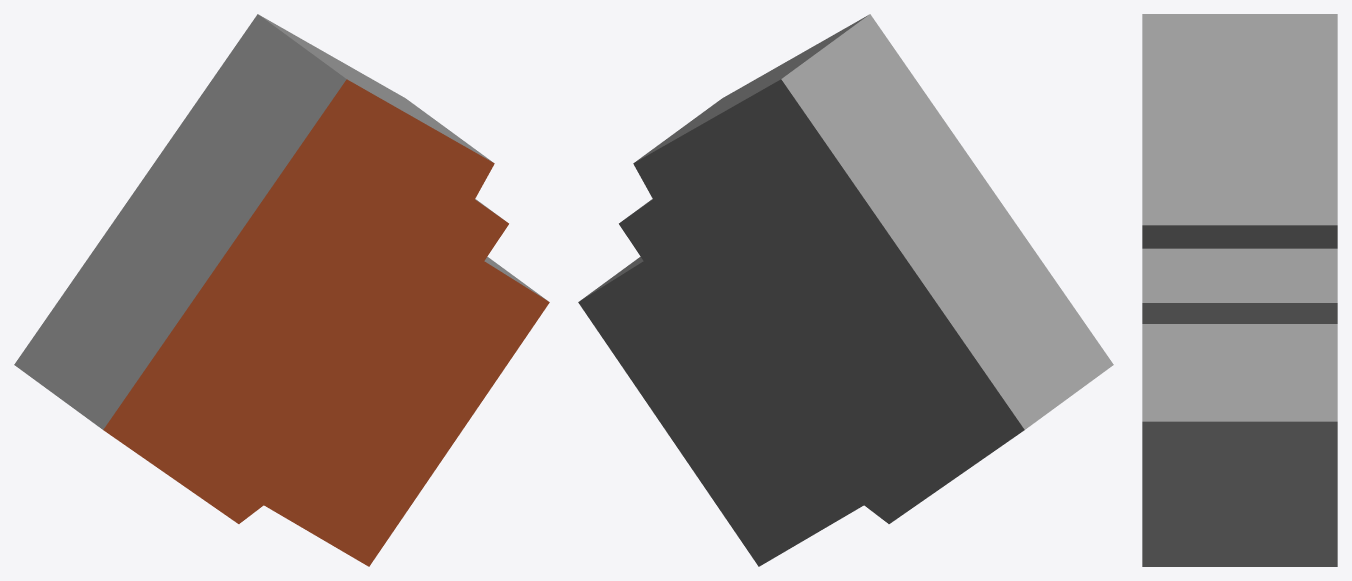
File: construction_0481_assumed_A_Casa_h6m.obj
The picture shows the model from 3 angles, left to right: view 1: azimuth 30°, elevation 25°; view 2: azimuth 150°, elevation 25°; view 3: azimuth 270°, elevation 25°; orthographic projection. The views are drawn at different scales.
Visible parts, largest first — view 1: construction_0481_assumed_A_Casa; view 2: construction_0481_assumed_A_Casa; view 3: construction_0481_assumed_A_Casa.
Part boxes in pixels (x1,y1,x2,y2): construction_0481_assumed_A_Casa: (14,14,549,566); construction_0481_assumed_A_Casa: (578,14,1113,566); construction_0481_assumed_A_Casa: (1142,14,1337,566).
Size of the model in its own units: 17.38 by 18.33 by 6.
